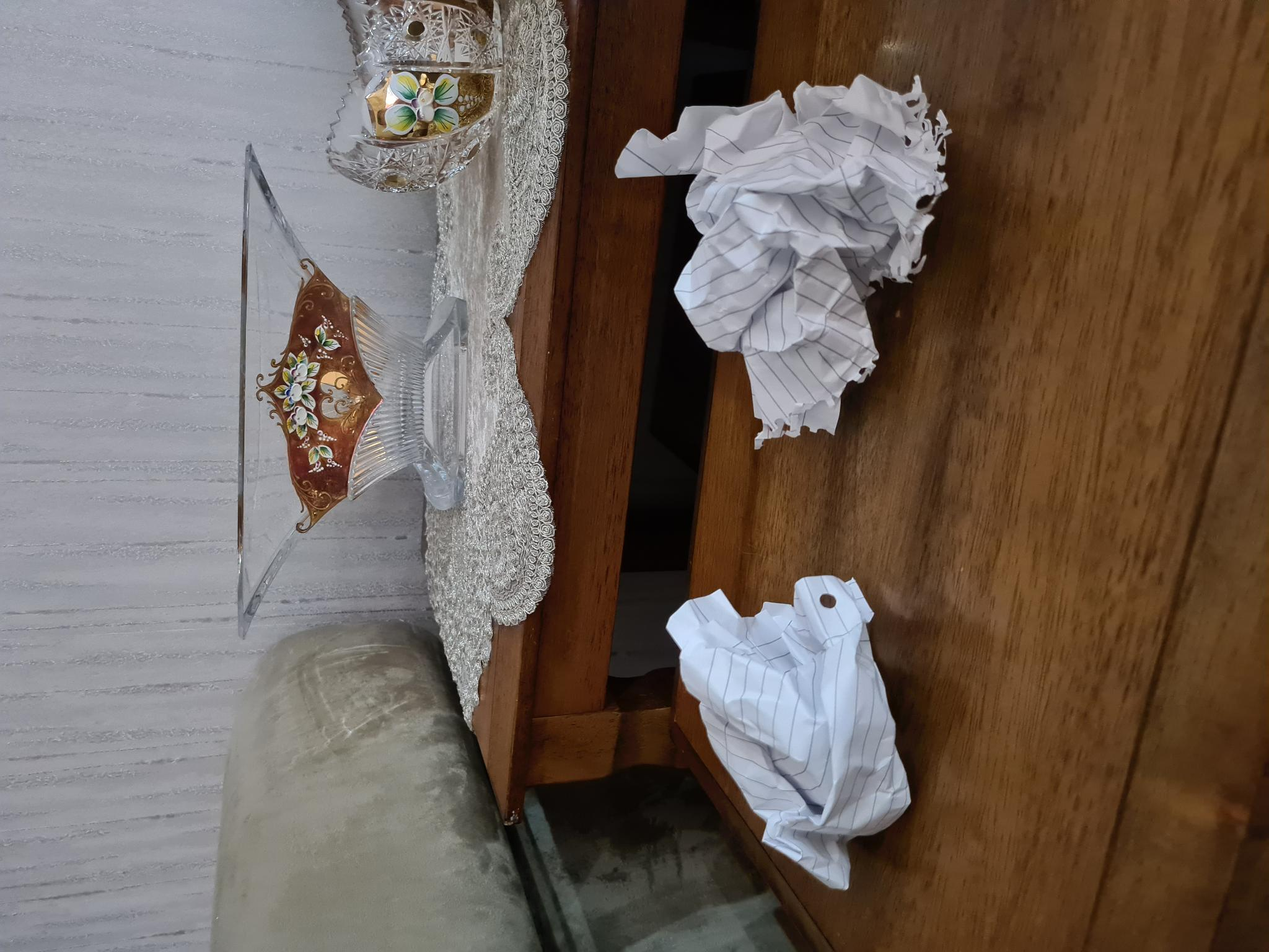Kertas: (508, 616, 876, 947), (63, 668, 376, 911)
